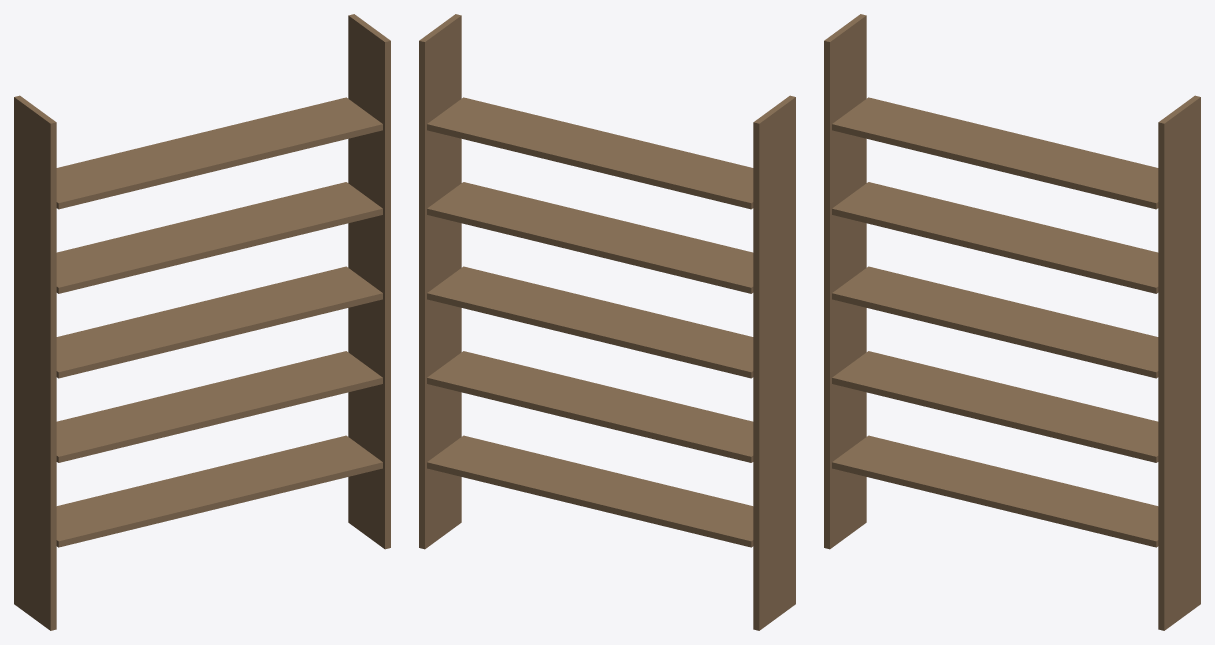
The model's file is bookshelf_10.glb.
3 views of the same model, side by side, from view 1: azimuth 30°, elevation 25°; view 2: azimuth 150°, elevation 25°; view 3: azimuth 330°, elevation 25° (orthographic).
Size of the model in its own units: 1.72 by 2.45 by 0.32.
